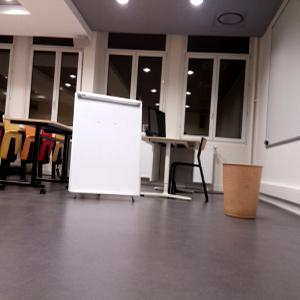big: (68, 89, 145, 195)
medium: (221, 162, 262, 218)
